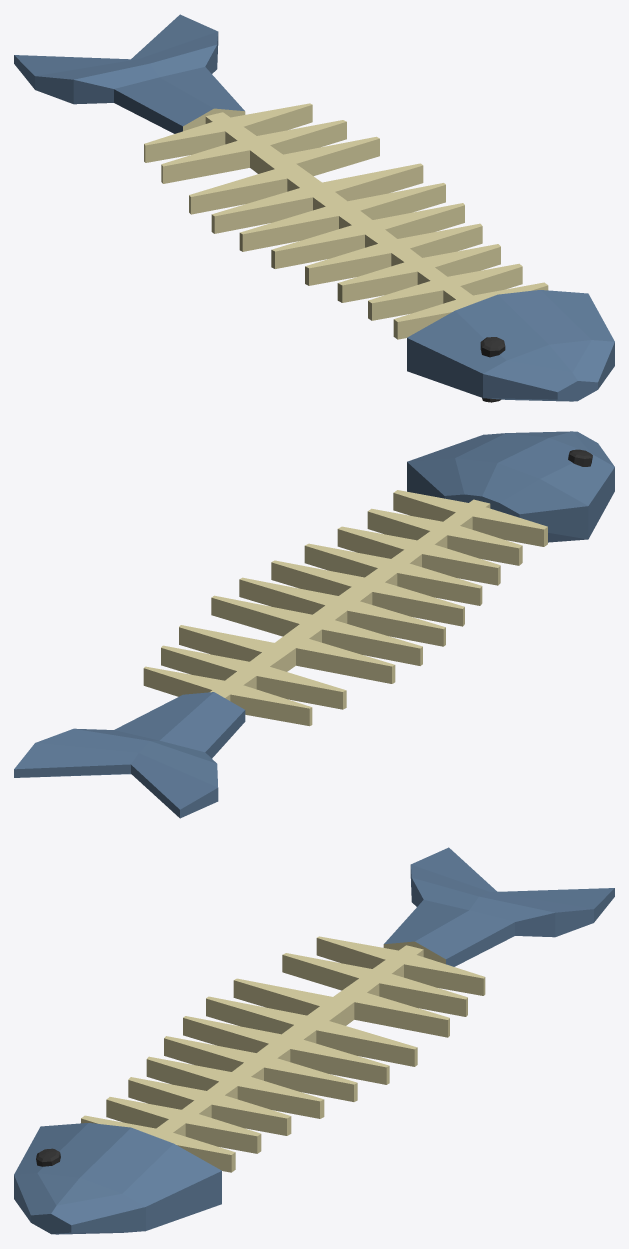
The model's file is F_Fish_B.fbx.
3 views of the same model, one above another, from view 1: azimuth 30°, elevation 25°; view 2: azimuth 150°, elevation 25°; view 3: azimuth 330°, elevation 25° (orthographic).
Visible parts, largest first — view 1: F_Fish_B; view 2: F_Fish_B; view 3: F_Fish_B.
Part boxes in pixels (box(x1,y1,x2,y2)): F_Fish_B: box(14, 14, 614, 402); F_Fish_B: box(14, 431, 614, 818); F_Fish_B: box(14, 847, 614, 1234).
Bounding box in the file's own units: 17.56 × 6.06 × 69.99.
